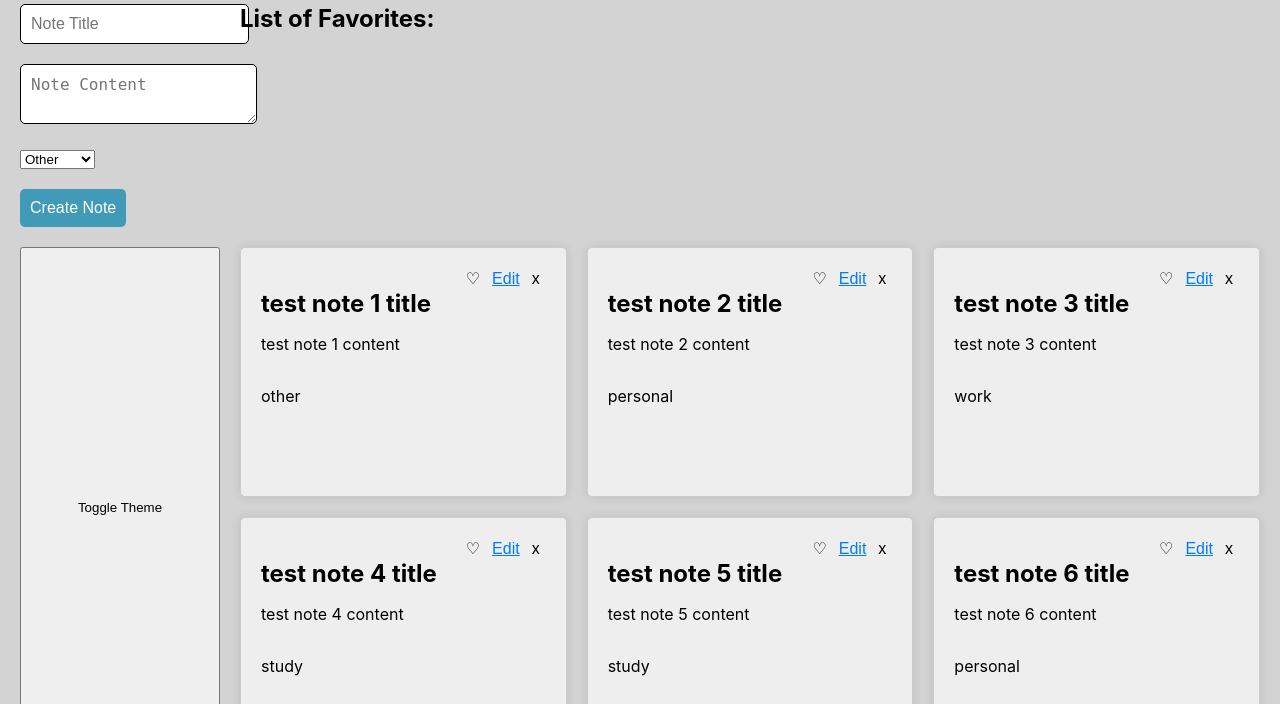
Read StickyNote › creates a new note and displays it
Type "Test Note Title" into the field with placeholder "Note Title" at (134, 24), box [20, 4, 249, 44]
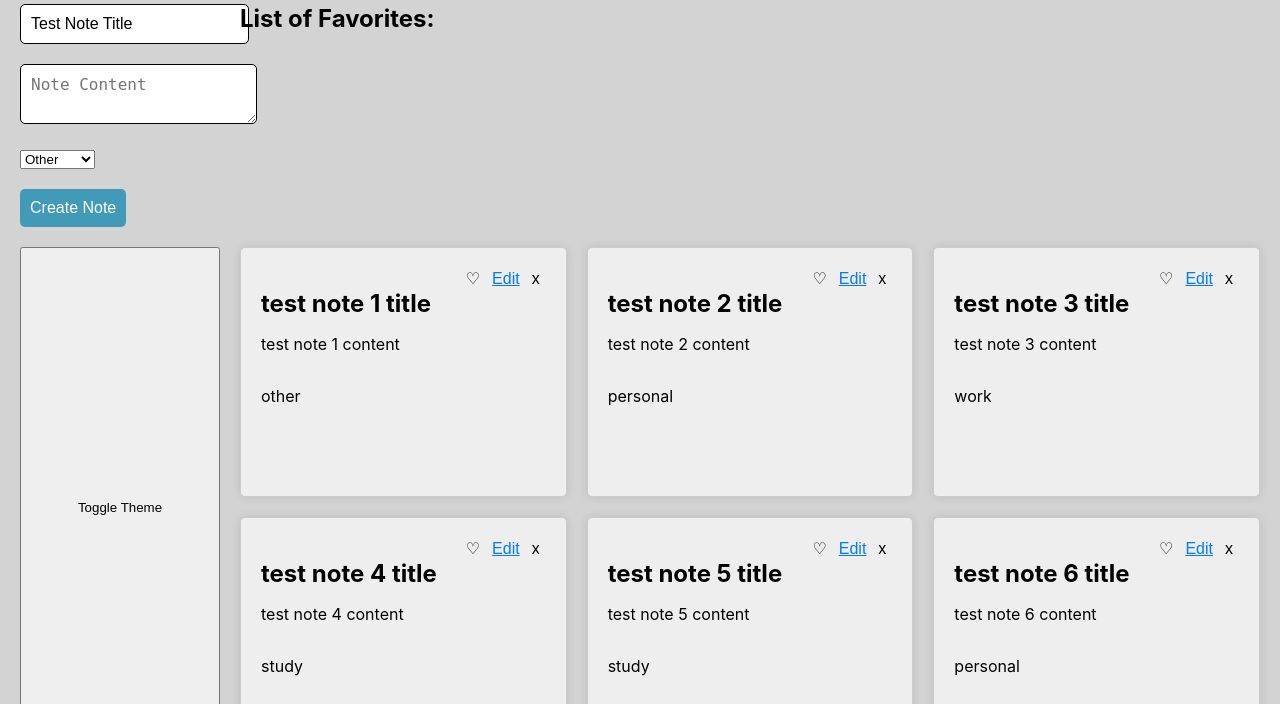
Type "Test Note Content" into the text box with placeholder "Note Content" at (138, 94), box [20, 64, 257, 124]
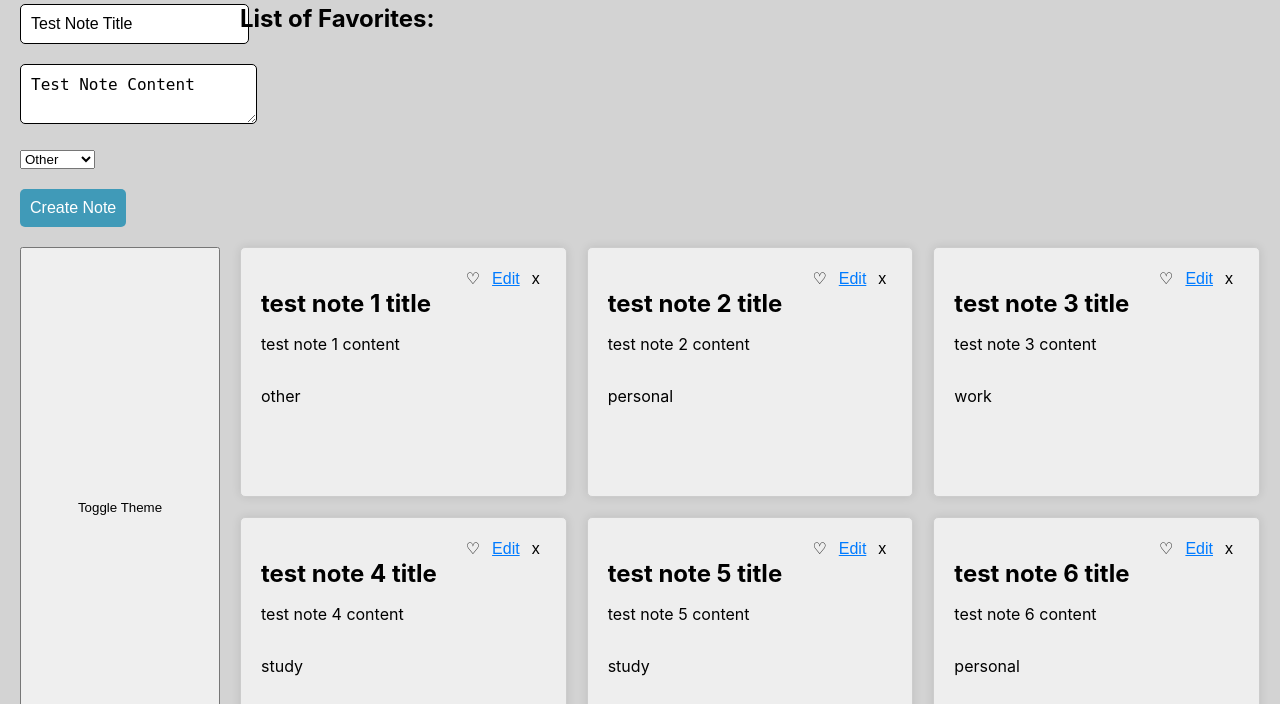
Select "Personal" in the dropdown at (58, 160), box [20, 150, 95, 169]
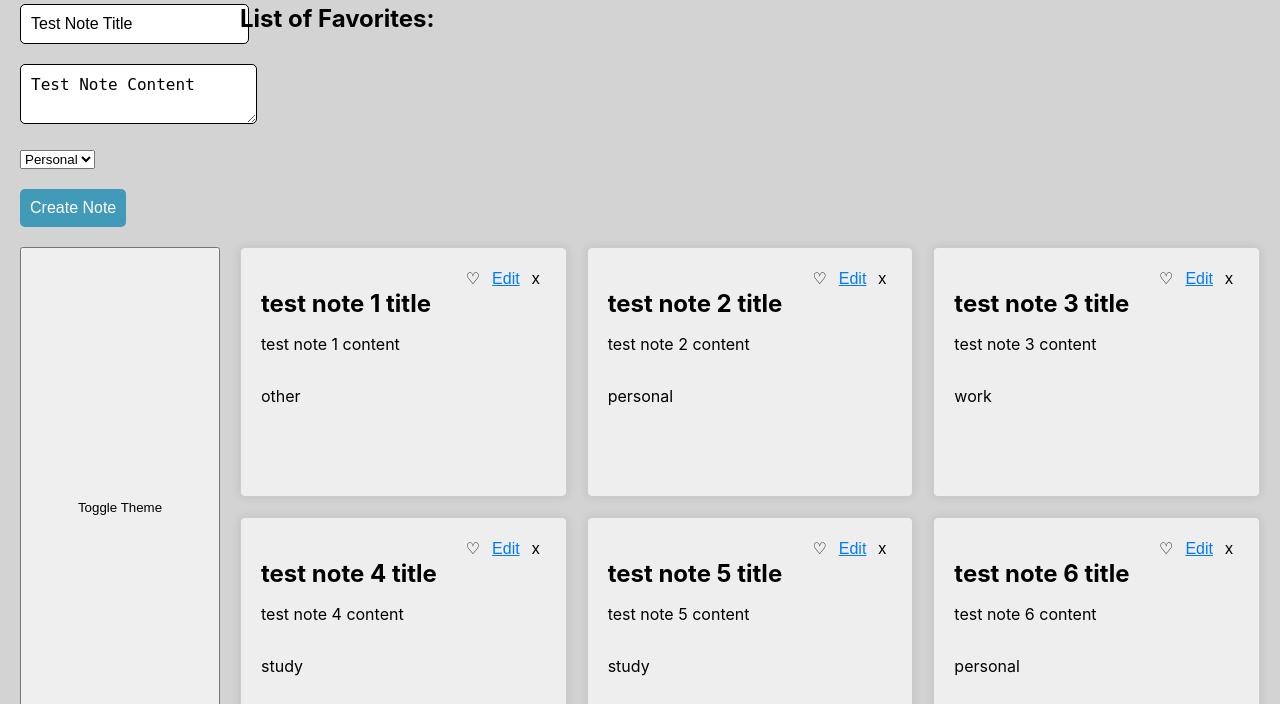
Click the button "Create Note" at (73, 208), box [20, 189, 126, 227]
(page scrolled)
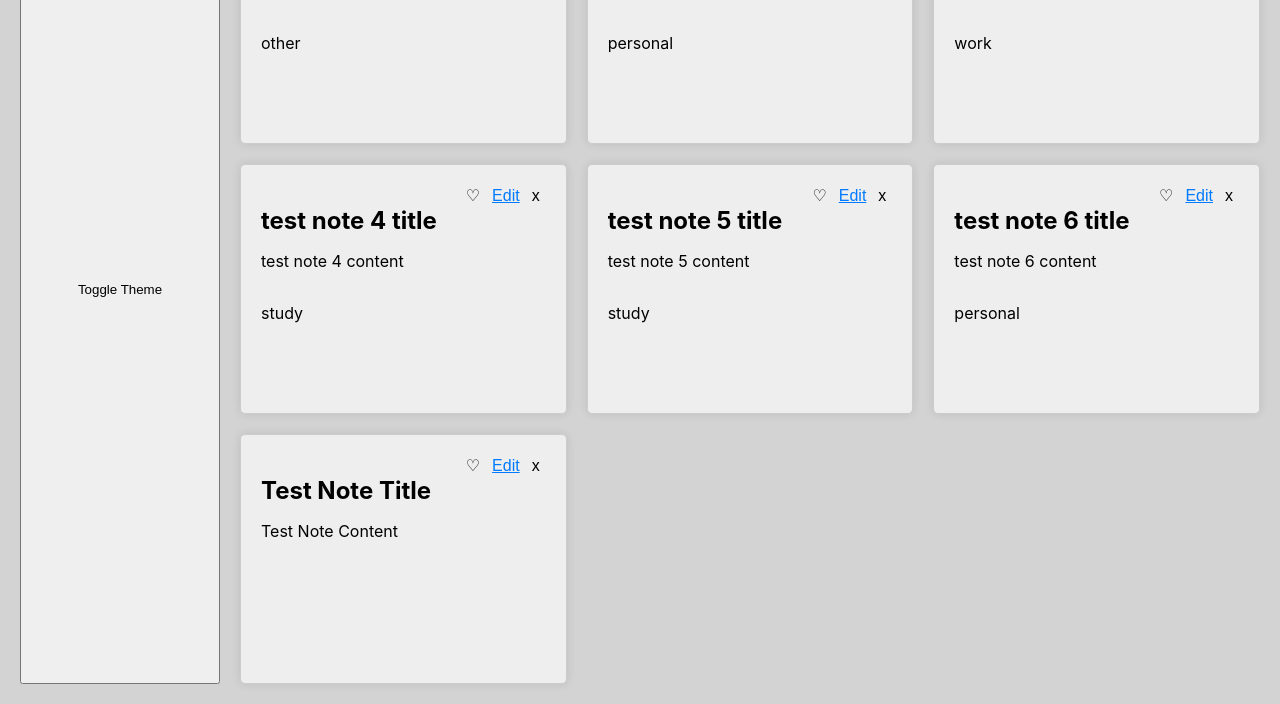
Check: the heading "Test Note Title" is shown, box [261, 476, 431, 505]
Check: the text "Test Note Content" is shown, box [261, 521, 398, 541]
